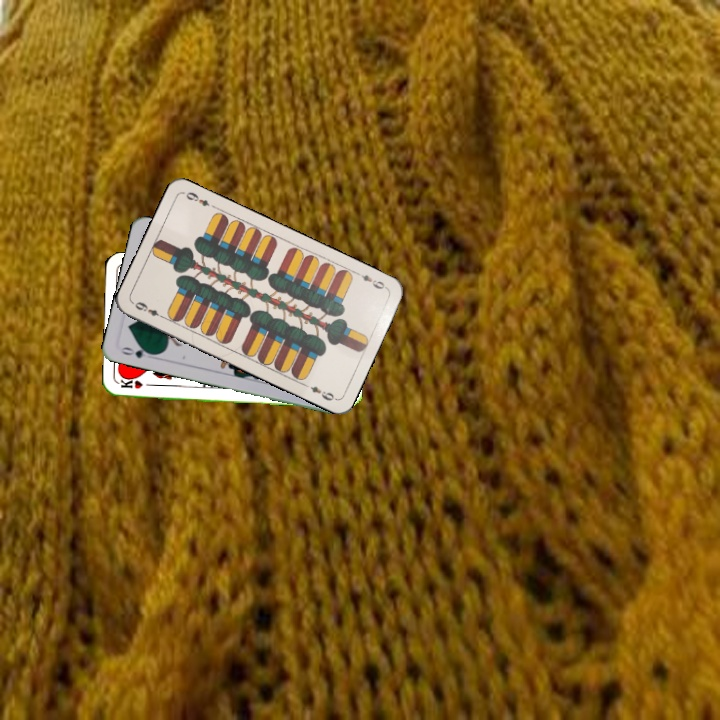E9: (352, 268, 390, 292), (129, 298, 167, 321)
GO: (118, 342, 157, 361)
HK: (117, 377, 157, 391)
